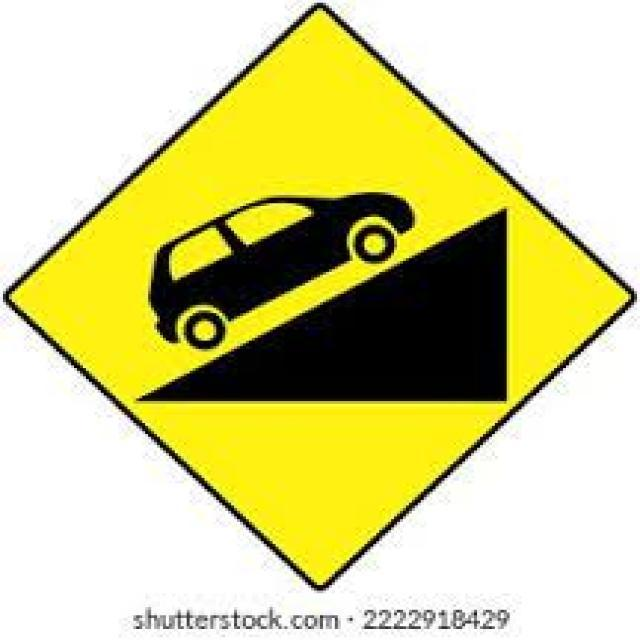steep ascent: (22, 20, 619, 584)
